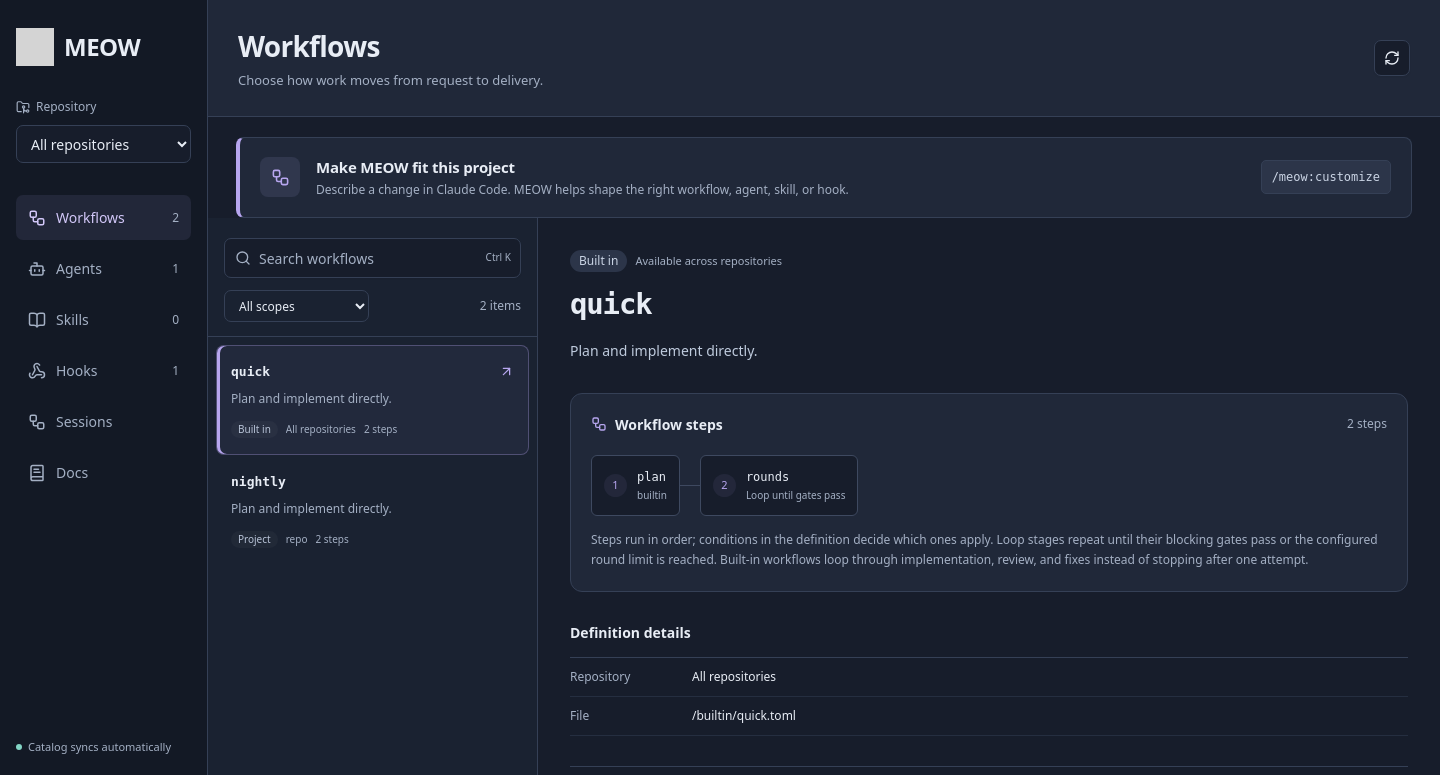
Scenario: returns from Sessions to the Workflows catalog
The width and height of the screenshot is (1440, 775).
Expected: the heading "quick" is shown, [570,287,652,321]
Click the button "Sessions" at {"x": 104, "y": 422}, box [16,399,191,444]
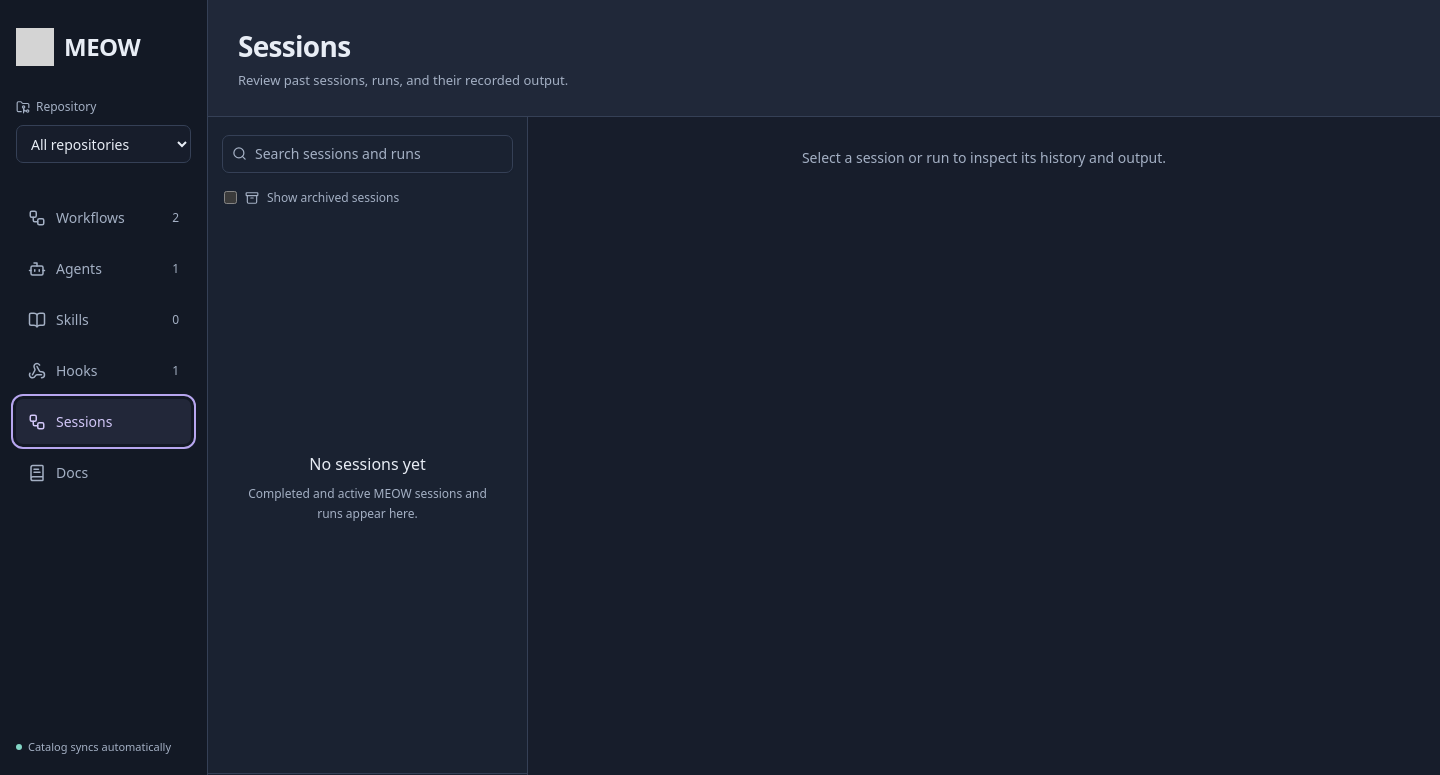
Now the heading "Sessions" is shown, box [238,27,350,65]
Click the button "Workflows 2" at {"x": 104, "y": 218}, box [16,195,191,240]
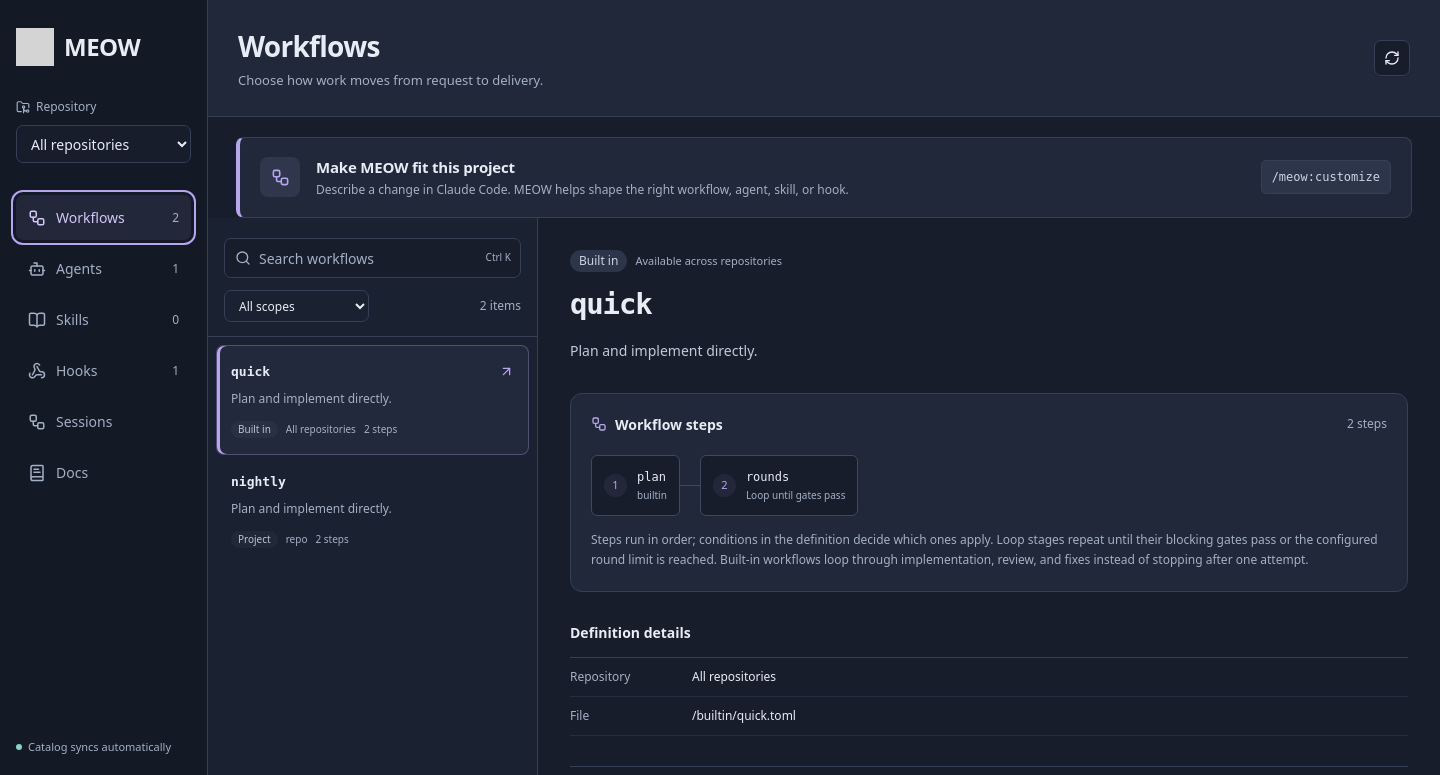
Now the heading "Workflows" is shown, box [238,27,380,65]
Now the search field named "Search catalog" is shown, box [224,238,521,278]
